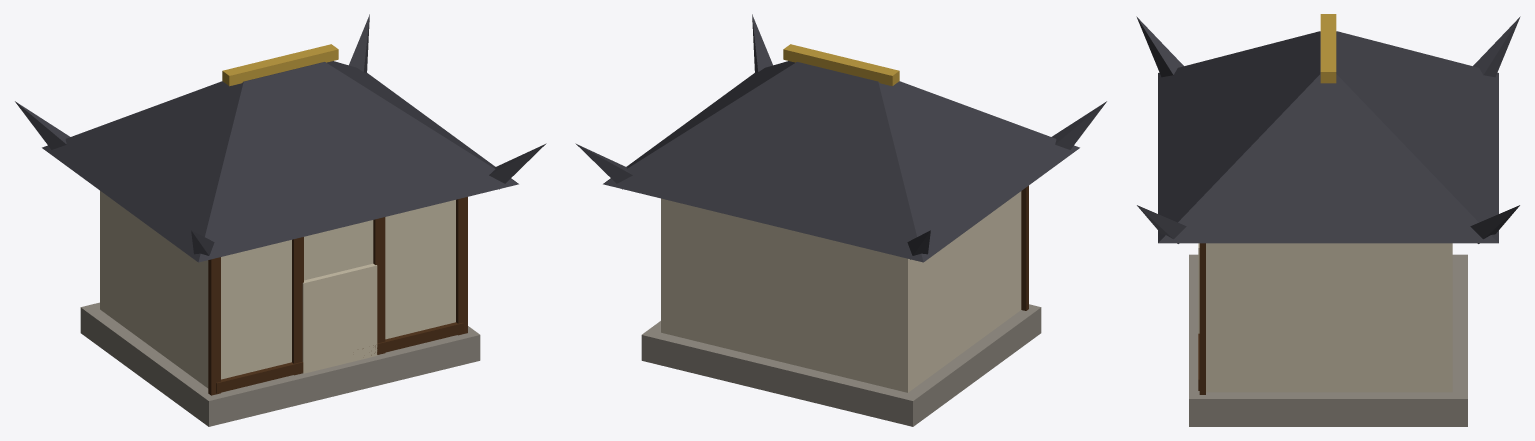
Rendered from macaque_house_a.glb.
3 renders of one model, left to right at view 1: azimuth 30°, elevation 25°; view 2: azimuth 150°, elevation 25°; view 3: azimuth 270°, elevation 25°, orthographic. The views are drawn at different scales.
Parts seen in each view (by area): view 1: macaque_house_a; view 2: macaque_house_a; view 3: macaque_house_a.
Part boxes in pixels (box(x1,y1,x2,y2)): macaque_house_a: box(15, 14, 546, 426); macaque_house_a: box(575, 14, 1106, 426); macaque_house_a: box(1136, 14, 1520, 426).
Size of the model in its own units: 2.88 by 2.22 by 2.48.
